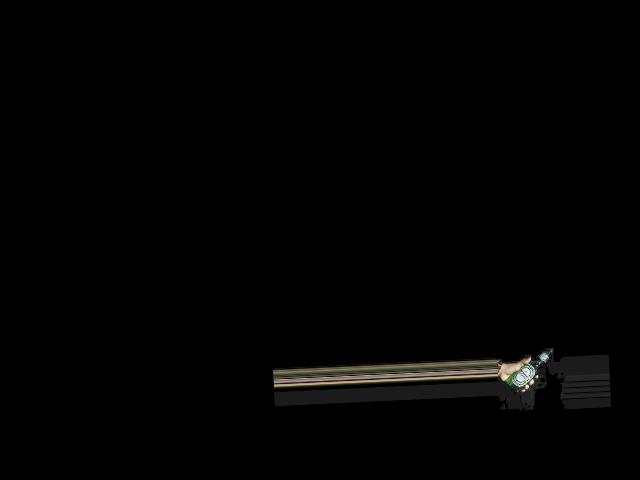beer: (502, 347, 556, 393)
